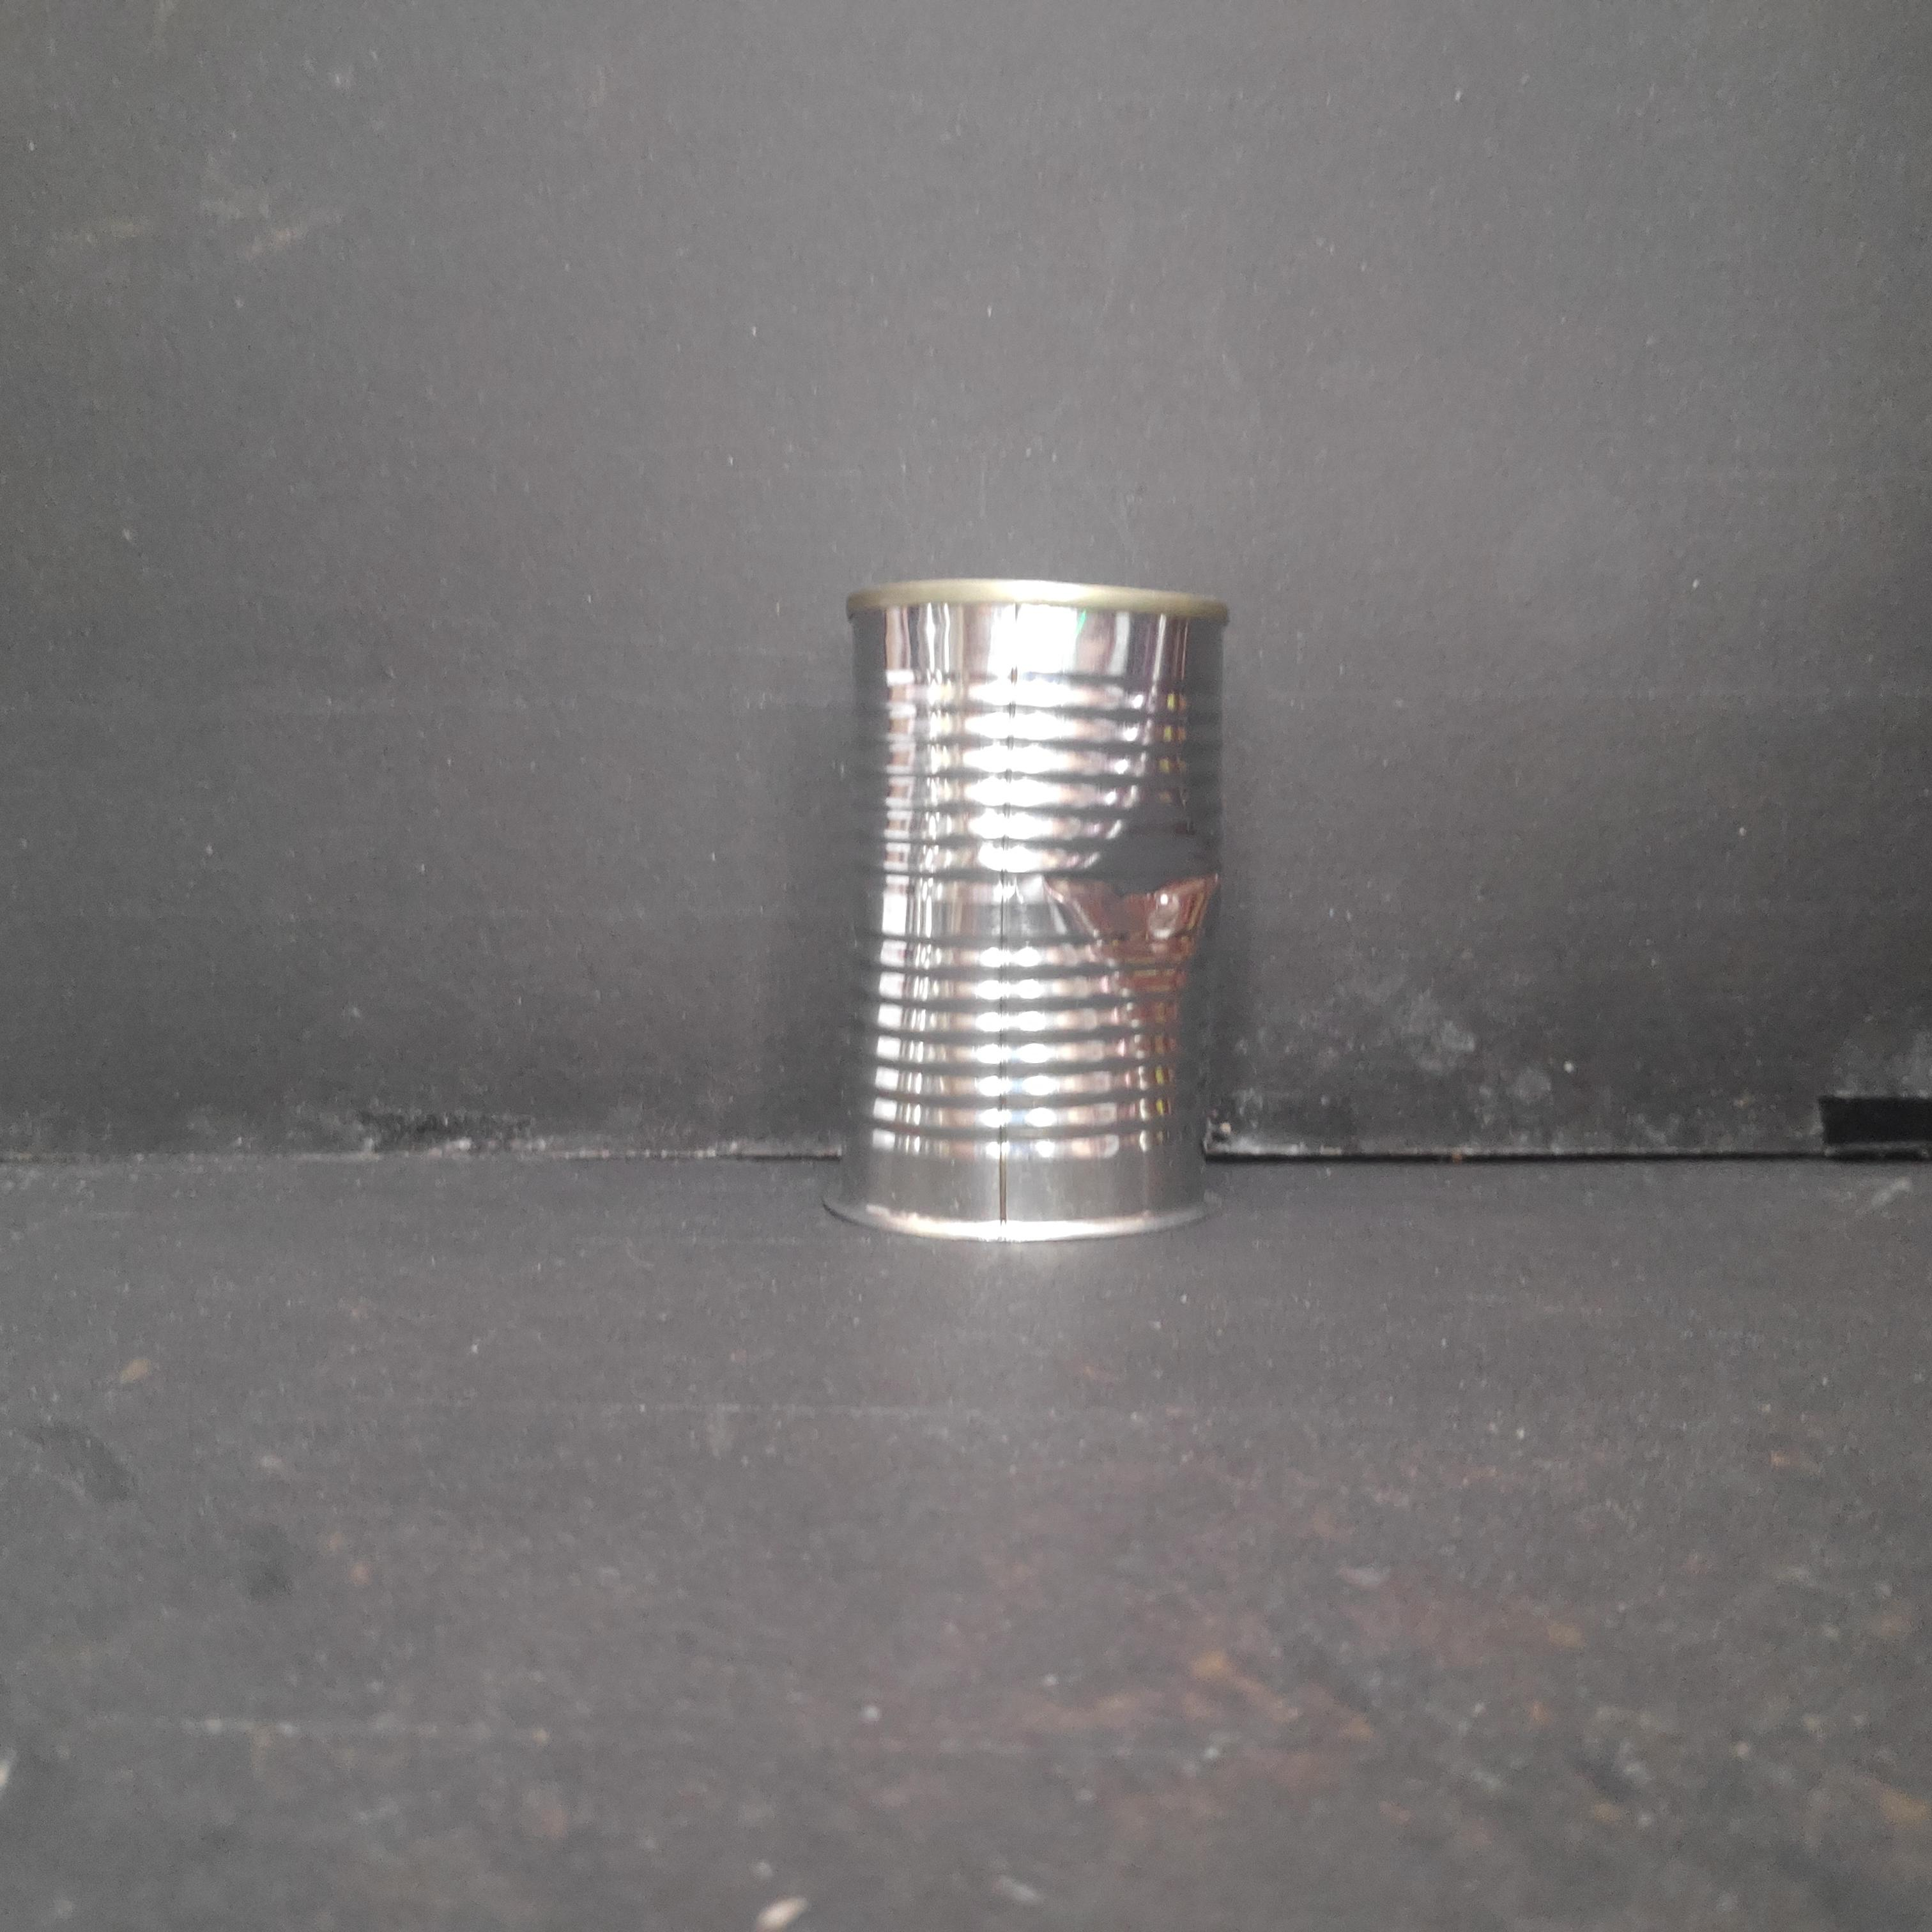Minor Defect: (832, 570, 1235, 1254)
